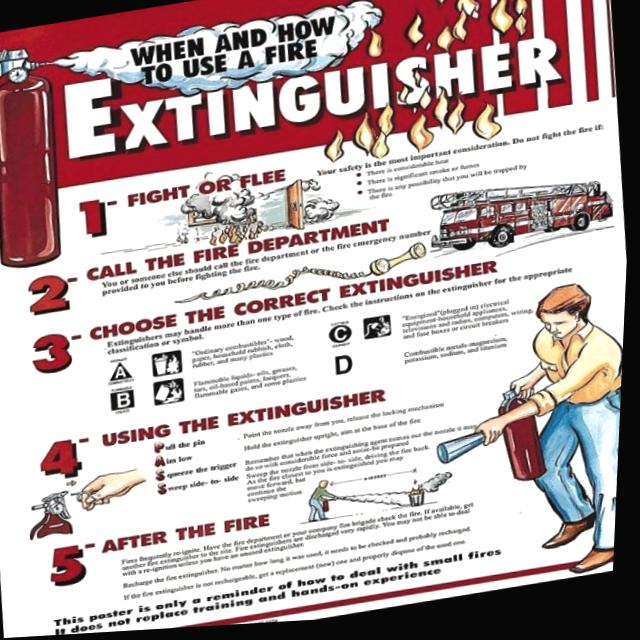FireExtinguisher: (0, 29, 77, 276)
